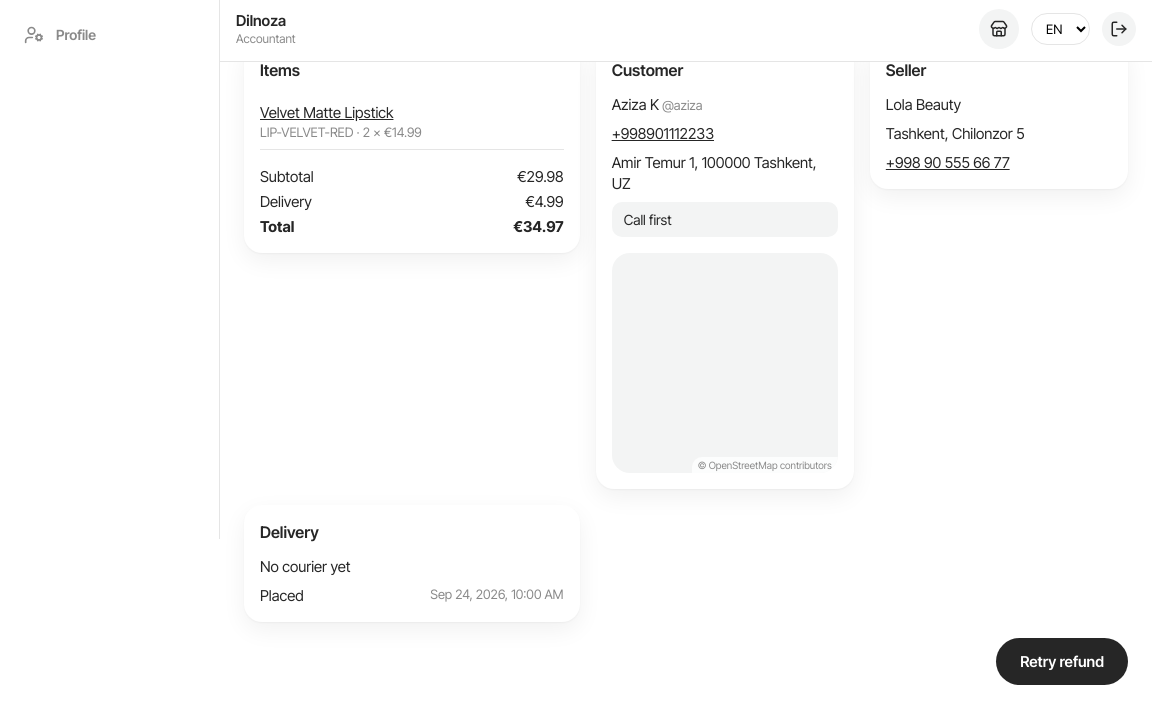
Scenario: password confirmation › sends an admin without a password to the profile
The width and height of the screenshot is (1152, 717).
(page scrolled)
What coordinates should you click on to do the following:
click the button "Retry refund"
I would click on:
 (1062, 661)
Its box is x1=996 y1=638 x2=1128 y2=685.
(page scrolled)
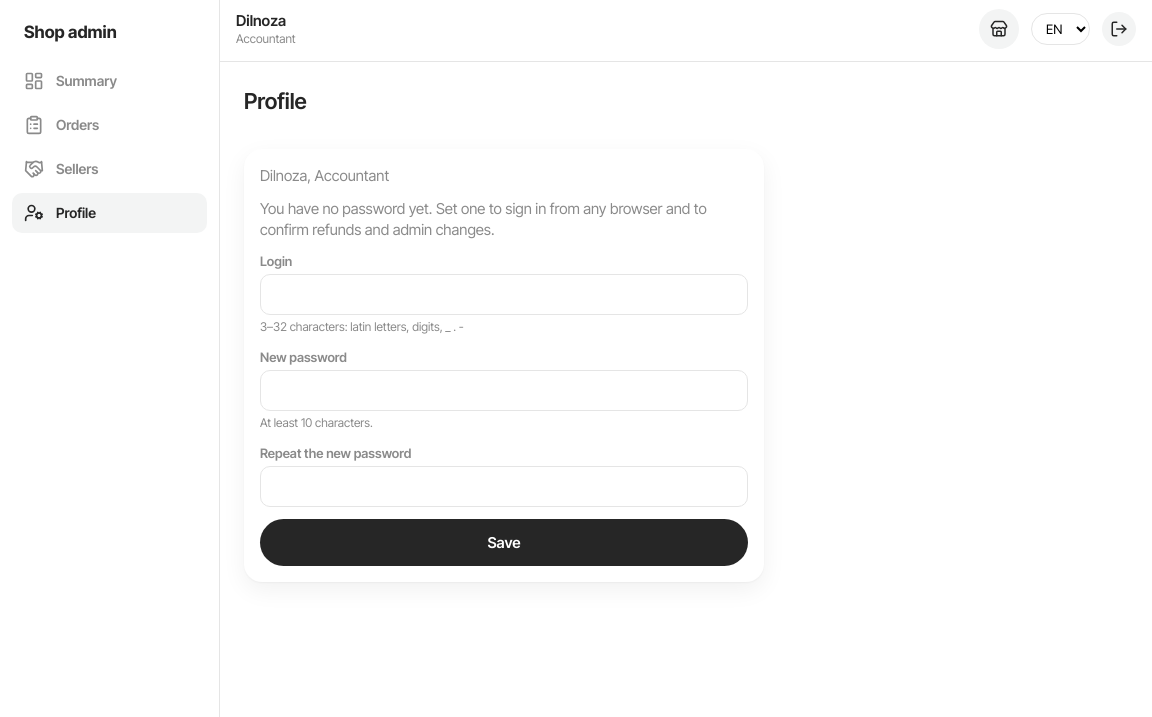
Check: the heading "Profile" is shown, box x1=244 y1=88 x2=307 y2=114
